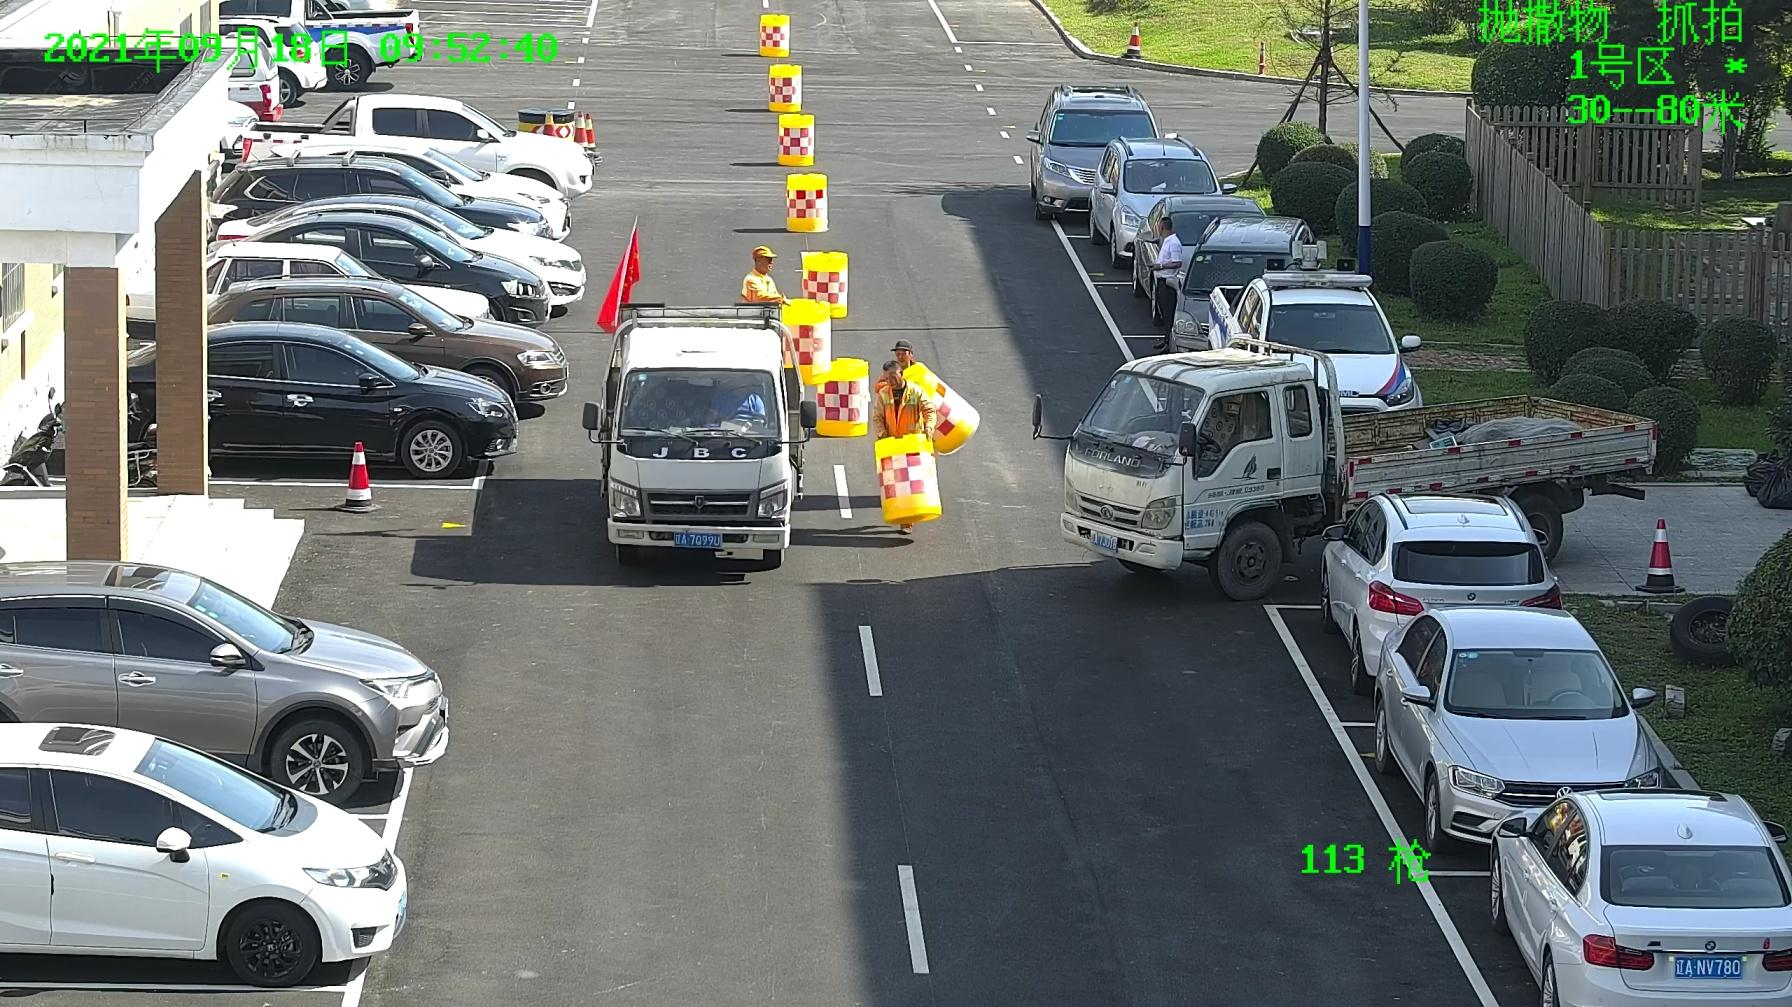cone_barrel: (902, 361, 978, 452), (873, 435, 940, 528), (779, 297, 832, 380), (811, 363, 868, 439), (800, 255, 846, 323), (783, 174, 825, 231), (766, 62, 802, 112), (779, 112, 812, 166), (757, 14, 786, 60)
